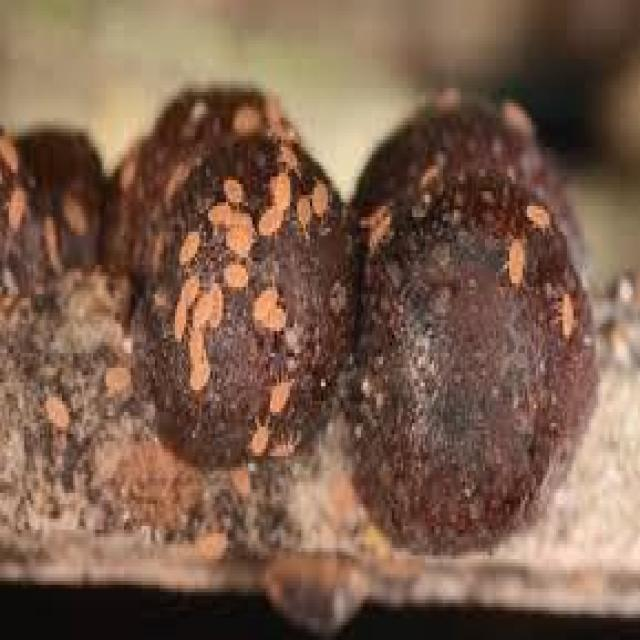Black Scale: (0, 81, 596, 585)
